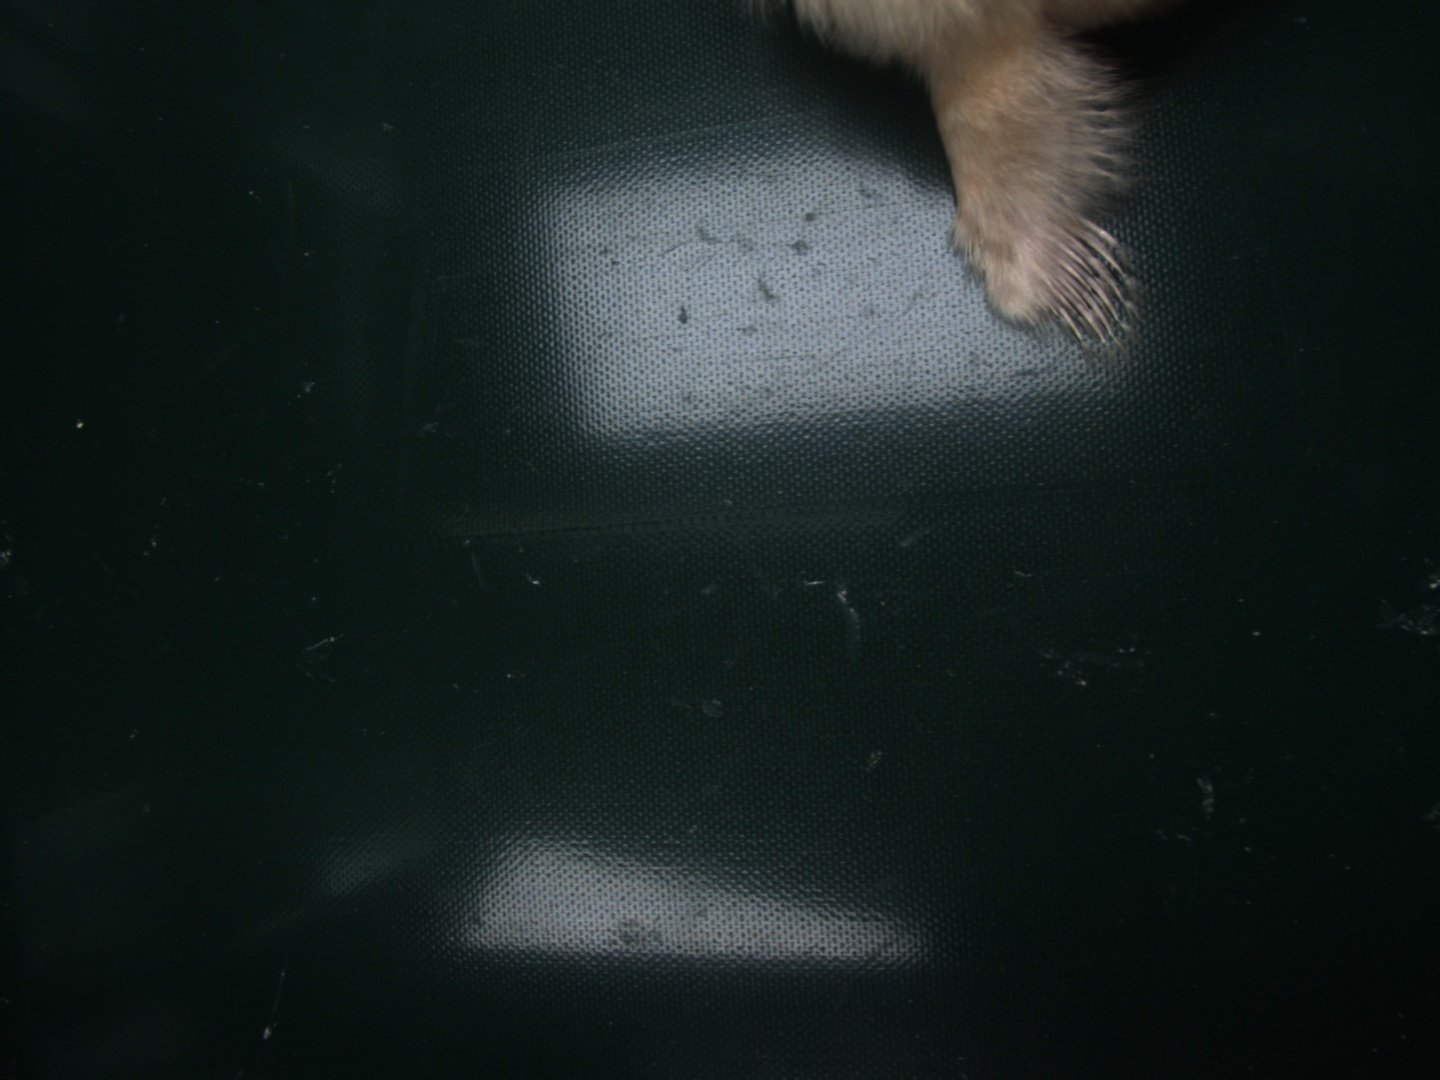female: (1043, 214, 1126, 344)
